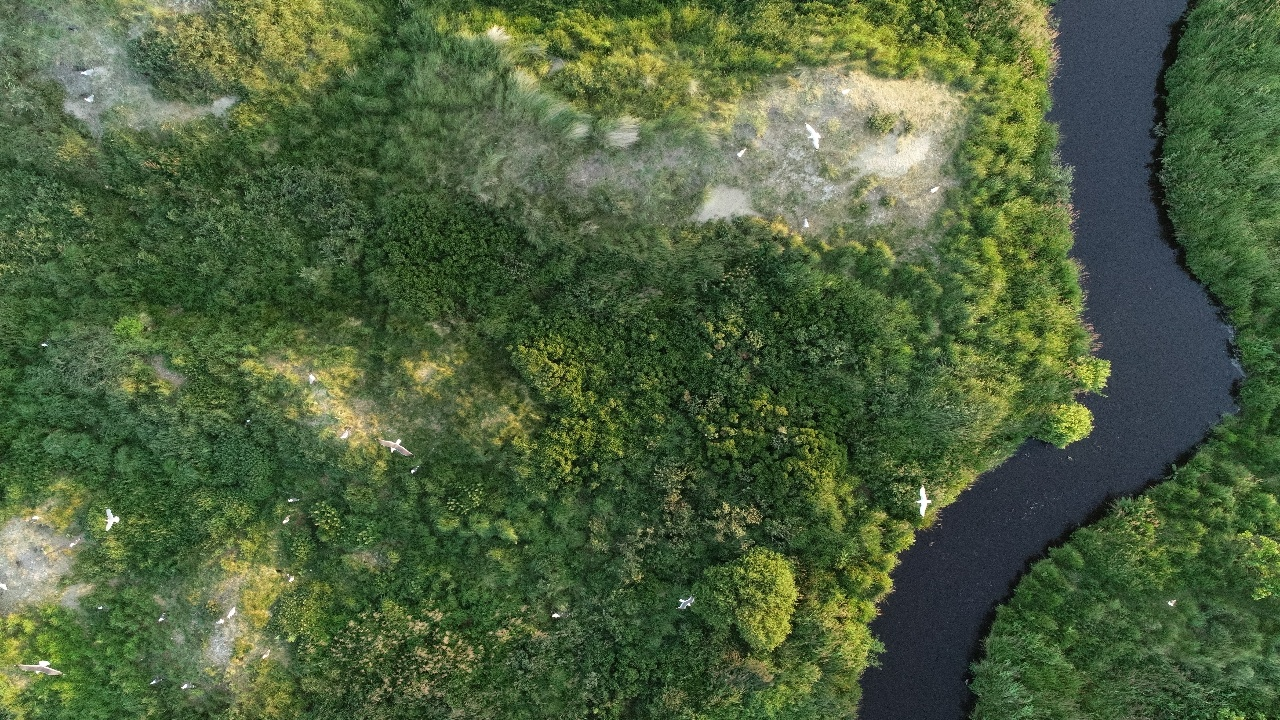Bird: (13, 649, 69, 687), (907, 482, 941, 520), (71, 58, 105, 89), (72, 79, 106, 110), (294, 364, 328, 395), (326, 419, 360, 450), (378, 430, 412, 461), (396, 455, 430, 486), (275, 483, 309, 514), (270, 503, 304, 534), (91, 503, 125, 534), (144, 601, 178, 632), (672, 587, 706, 618), (544, 596, 578, 627), (247, 637, 281, 668), (173, 672, 207, 703), (140, 668, 174, 699), (792, 211, 826, 242), (728, 139, 762, 170), (799, 120, 833, 151), (921, 174, 955, 205), (827, 77, 861, 108), (1154, 587, 1188, 618), (34, 332, 60, 357), (24, 506, 52, 529), (205, 610, 231, 634), (280, 567, 306, 591), (221, 599, 245, 624), (64, 532, 88, 555)
